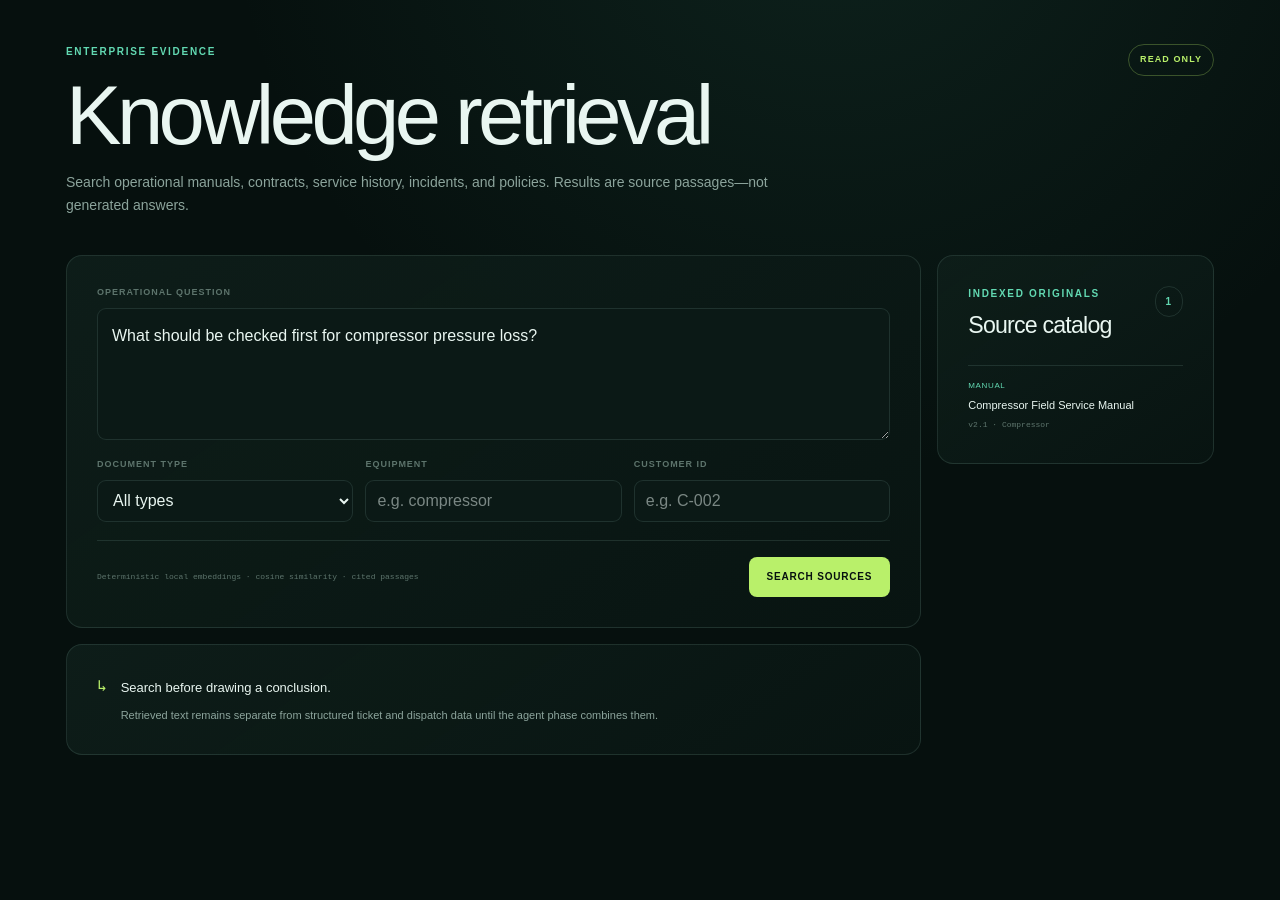
Scenario: KnowledgeWorkspace › renders indexed documents and cited retrieval results
This screenshot has width=1280, height=900.
Expected: the text "Compressor Field Service Manual" is shown, [968,399,1134,411]
Select "Manual" in the dropdown labelled "Document type" at coordinates (225, 501), box [97,480,353,522]
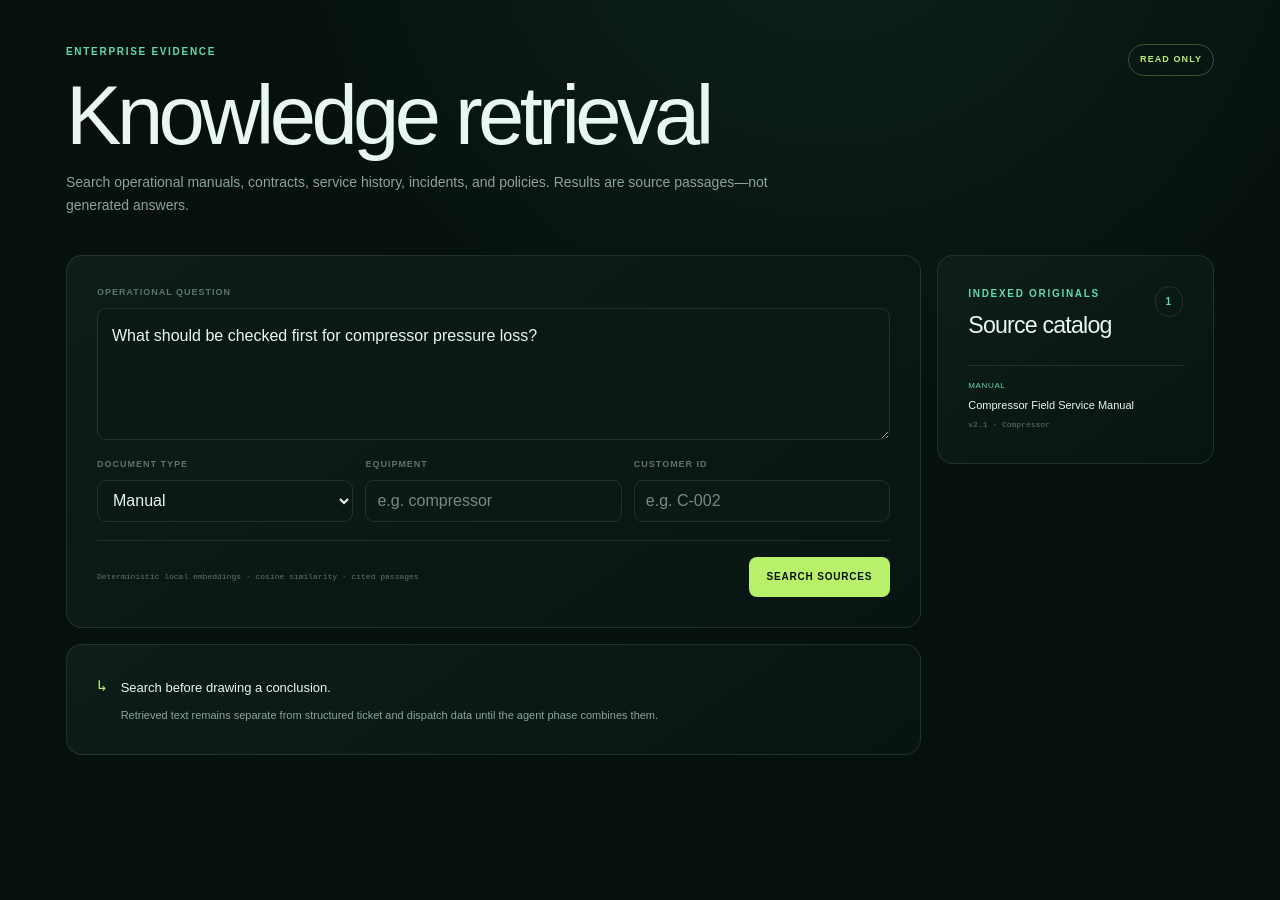
Type "compressor" into the field named "Equipment type" at coordinates (494, 501), box [365,480,622,522]
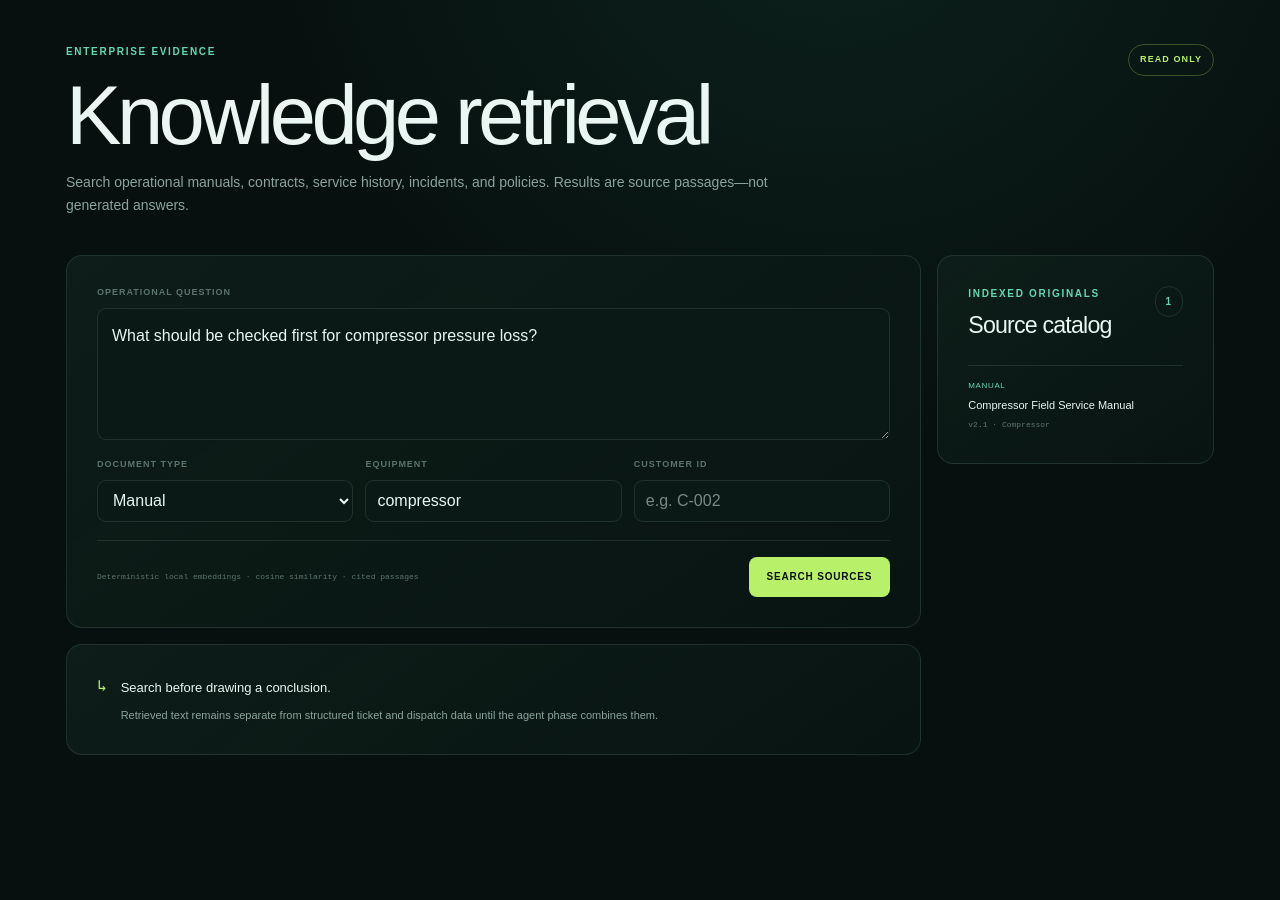
Click the button "Search sources" at coordinates (819, 577), box [749,557,890,597]
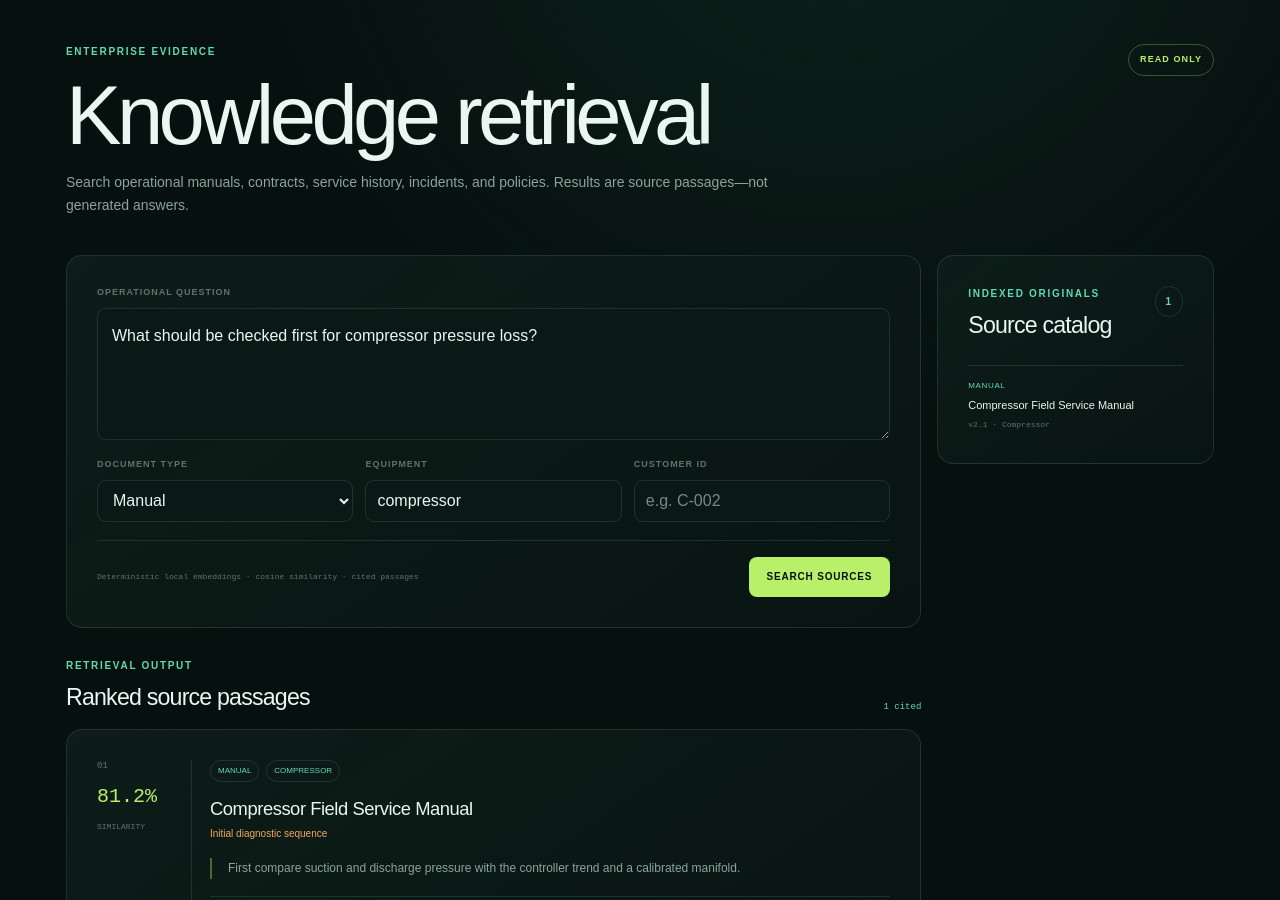
Now the text "Initial diagnostic sequence" is shown, box [210,828,327,839]
Now the text "81.2%" is shown, box [97,782,157,812]
